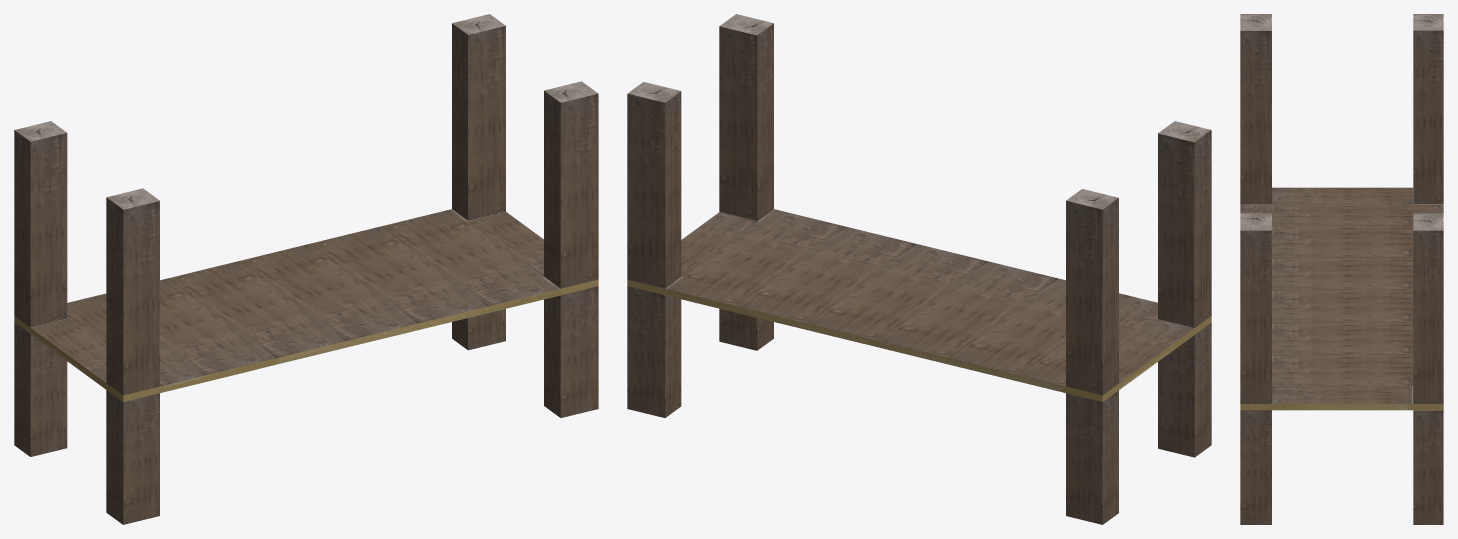
File: Bridge2.fbx
3 renders of one model, left to right at view 1: azimuth 30°, elevation 25°; view 2: azimuth 150°, elevation 25°; view 3: azimuth 270°, elevation 25°, orthographic. The views are drawn at different scales.
Parts seen in each view (by area): view 1: pCube1; view 2: pCube1; view 3: pCube1.
Part boxes in pixels (left/top/right/bottom): pCube1: left=14, top=14, right=598, bottom=524; pCube1: left=627, top=14, right=1211, bottom=524; pCube1: left=1240, top=14, right=1443, bottom=524.
Bounding box in the file's own units: 7.89 × 5 × 3.13.
Materials: 1 (1 with a texture image).
